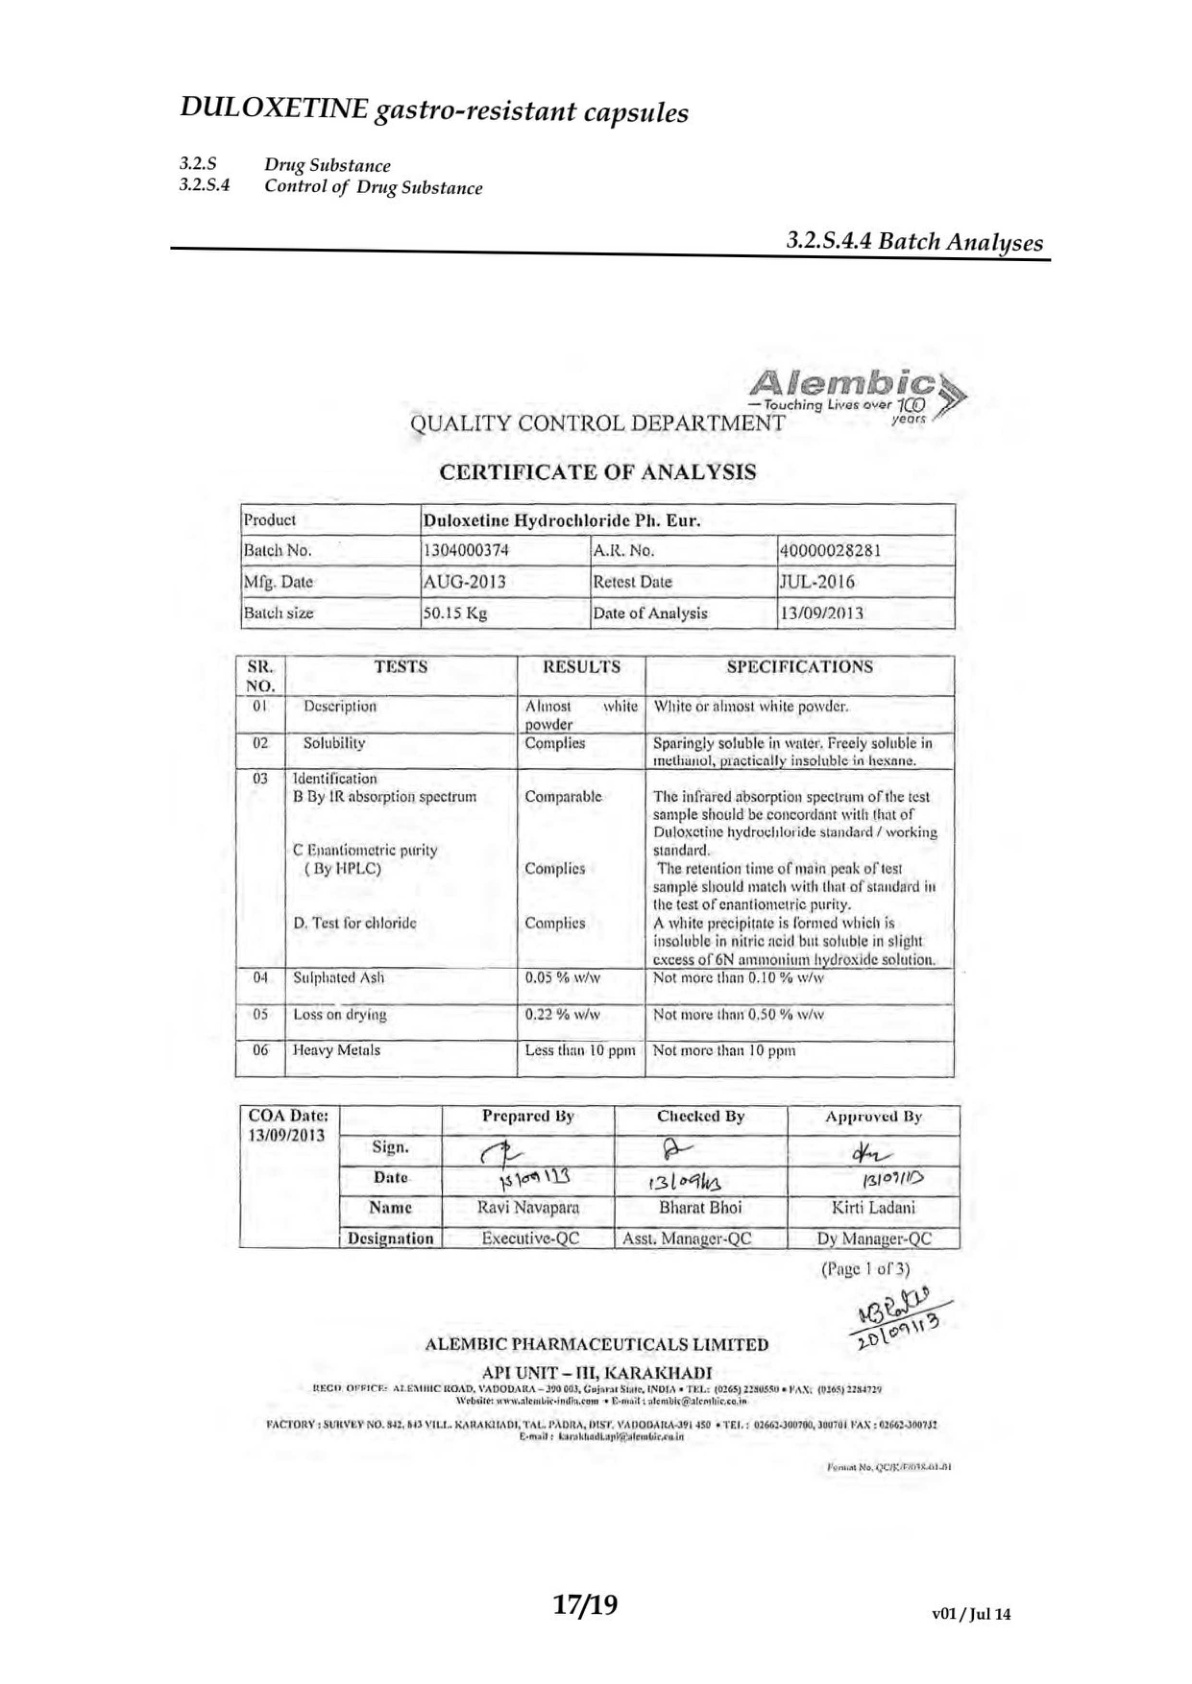full_lined: (233, 655, 956, 1078)
merged_cells: (239, 1104, 961, 1249), (240, 503, 957, 631)
